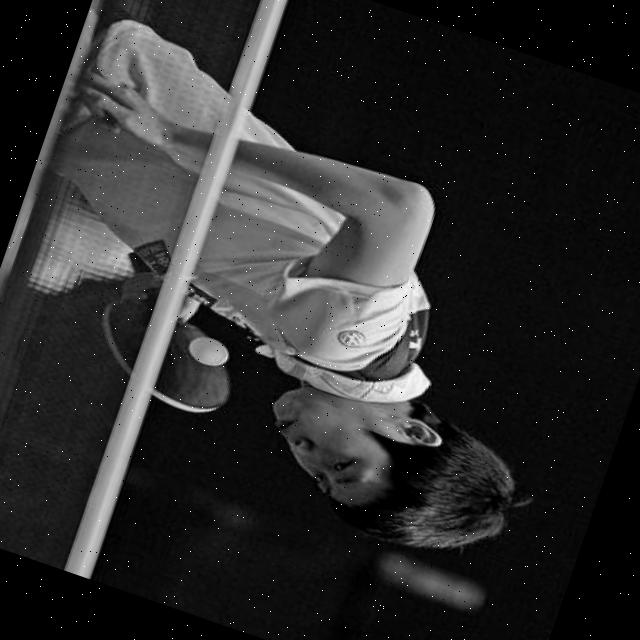ping-pong-ball: (184, 331, 233, 371)
